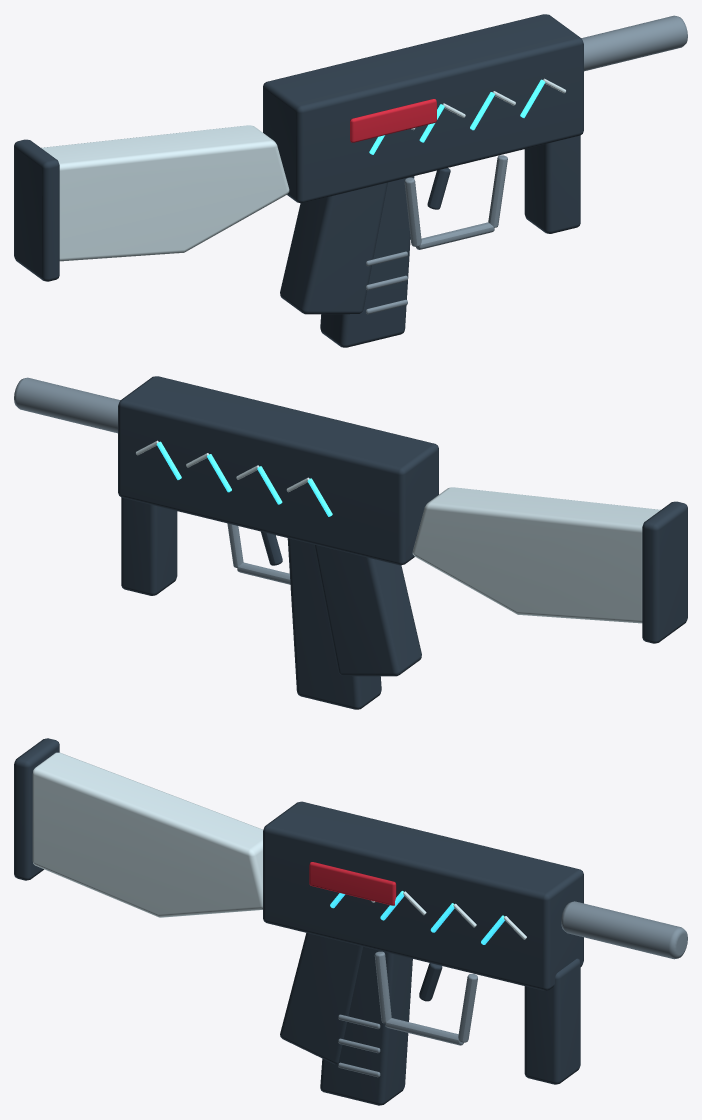
3 renders of one model, top to bottom at view 1: azimuth 30°, elevation 25°; view 2: azimuth 150°, elevation 25°; view 3: azimuth 330°, elevation 25°, orthographic.
Parts seen in each view (by area): view 1: Compact receiver, Shoulder stock, Pistol grip, Magazine, Butt pad, Forward grip, Barrel, Red accent, Trigger guard.001, Trigger guard.002, Trigger guard, Trigger; view 2: Compact receiver, Shoulder stock, Pistol grip, Magazine, Butt pad, Forward grip, Barrel, Trigger guard.001; view 3: Compact receiver, Shoulder stock, Magazine, Pistol grip, Forward grip, Barrel, Butt pad, Red accent, Trigger guard.001, Trigger guard, Trigger guard.002.
Boxes of the visible parts, x1,y1,x2,y2 form: Compact receiver: (263,14,583,203); Shoulder stock: (41,125,289,261); Pistol grip: (280,182,387,314); Magazine: (320,176,414,347); Butt pad: (14,139,59,281); Forward grip: (524,135,580,233); Barrel: (581,15,687,71); Red accent: (350,99,436,142); Trigger guard.001: (416,222,494,249); Trigger guard.002: (488,155,507,227); Trigger guard: (404,177,421,246); Trigger: (427,168,450,209); Compact receiver: (118,376,438,565); Shoulder stock: (412,487,660,623); Pistol grip: (314,544,421,676); Magazine: (287,538,381,709); Butt pad: (642,501,687,643); Forward grip: (121,497,177,595); Barrel: (14,377,120,433); Trigger guard.001: (237,562,290,584); Compact receiver: (263,801,583,990); Shoulder stock: (32,752,263,917); Magazine: (320,946,412,1105); Pistol grip: (280,933,362,1064); Forward grip: (524,958,580,1084); Barrel: (561,901,687,959); Butt pad: (14,738,59,880); Red accent: (309,862,396,905); Trigger guard.001: (385,1018,463,1045); Trigger guard: (374,951,391,1023); Trigger guard.002: (458,974,477,1042).
Size of the model in its own units: 4.55 by 1.75 by 0.5144.
